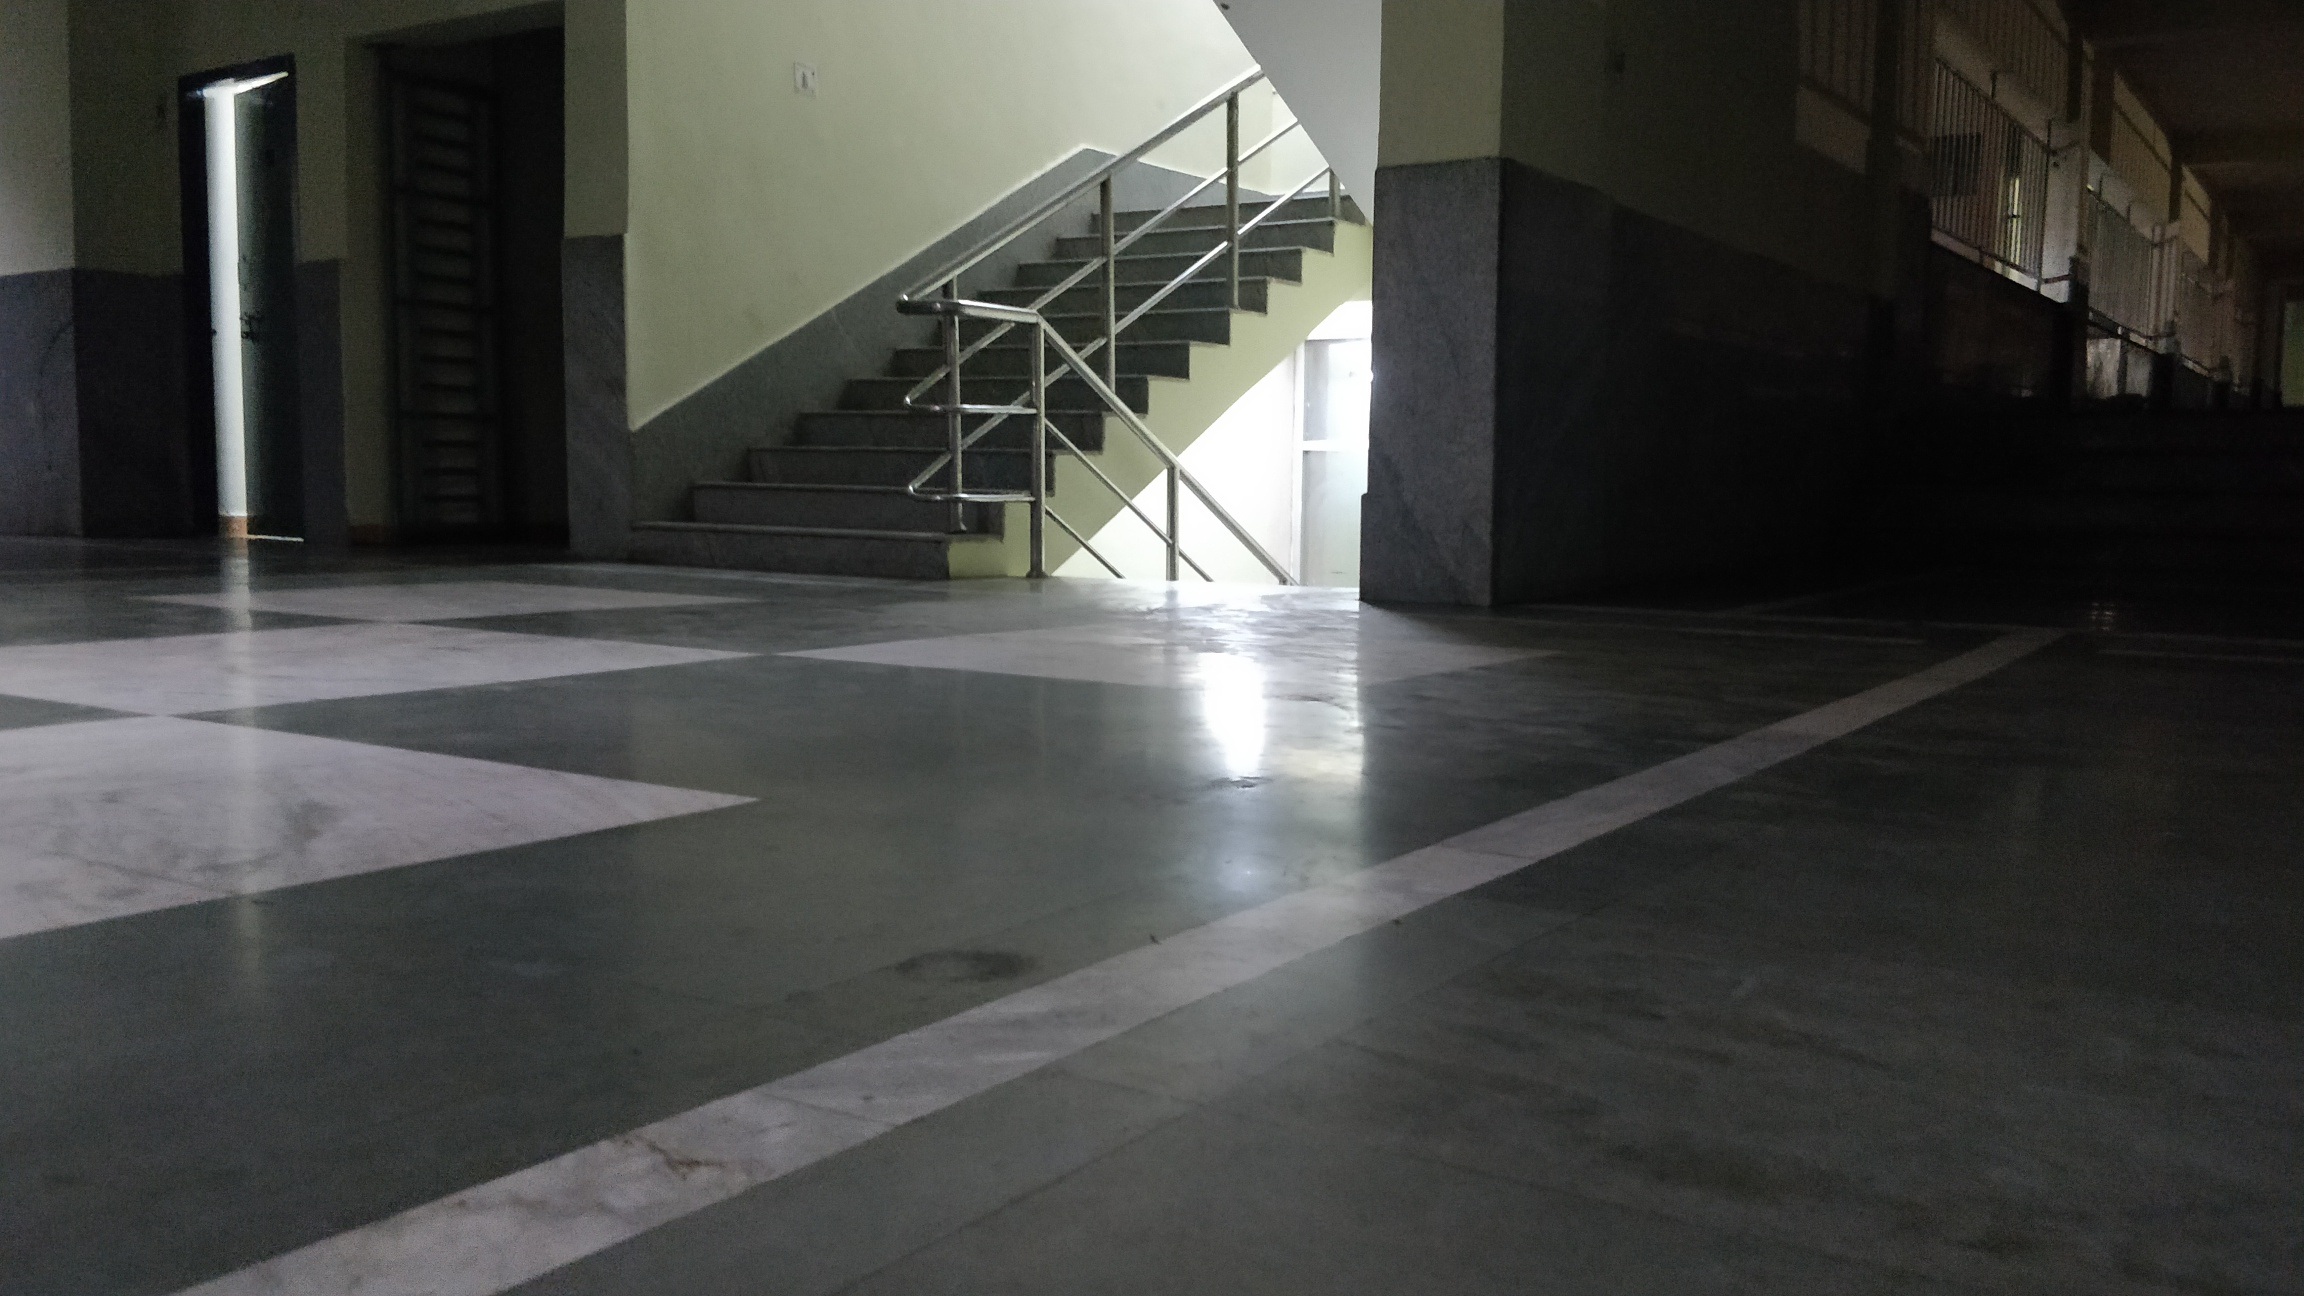stairs_up: (597, 188, 1328, 581)
